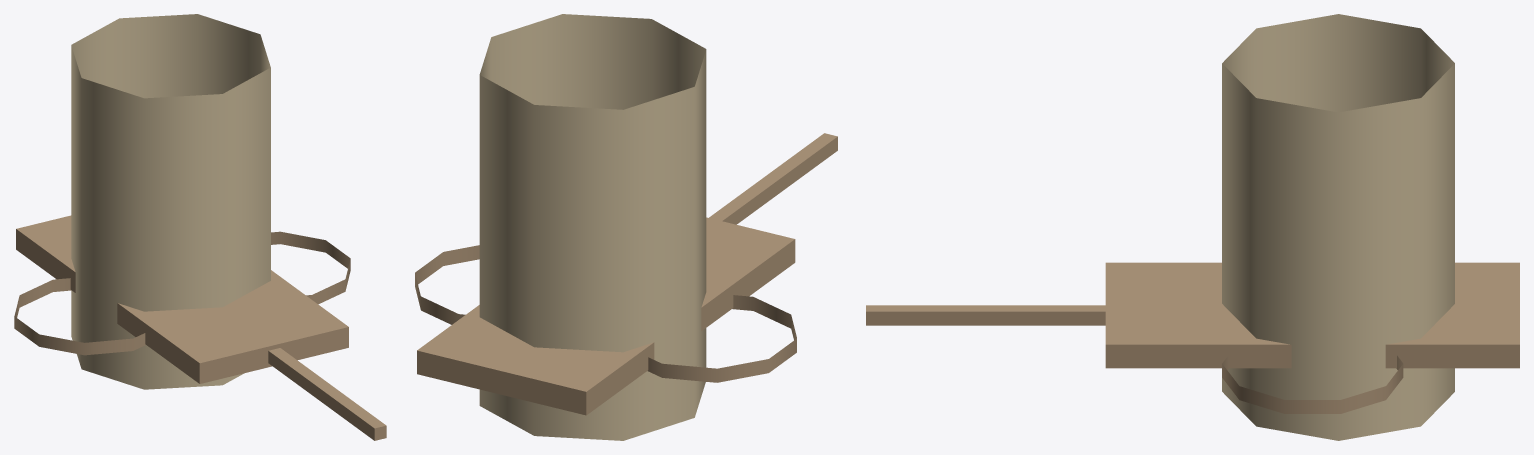
The model's file is bullock_cart.glb.
The picture shows the model from 3 angles, left to right: view 1: azimuth 30°, elevation 25°; view 2: azimuth 150°, elevation 25°; view 3: azimuth 270°, elevation 25°; orthographic projection. The views are drawn at different scales.
Visible parts, largest first — view 1: WickerCanopy_Node, CartBed_Node, YokeShaft_Node, Wheel_L_Node, Wheel_R_Node; view 2: WickerCanopy_Node, CartBed_Node, YokeShaft_Node, Wheel_L_Node, Wheel_R_Node; view 3: WickerCanopy_Node, CartBed_Node, YokeShaft_Node, Wheel_R_Node.
Part boxes in pixels (<box>): WickerCanopy_Node: <box>71,14,270,389</box>; CartBed_Node: <box>16,215,348,383</box>; YokeShaft_Node: <box>268,348,386,440</box>; Wheel_L_Node: <box>14,278,145,355</box>; Wheel_R_Node: <box>271,231,350,304</box>; WickerCanopy_Node: <box>479,14,706,440</box>; CartBed_Node: <box>417,217,795,415</box>; YokeShaft_Node: <box>709,133,837,224</box>; Wheel_L_Node: <box>648,295,796,382</box>; Wheel_R_Node: <box>415,245,479,324</box>; WickerCanopy_Node: <box>1222,14,1454,440</box>; CartBed_Node: <box>1105,262,1519,368</box>; YokeShaft_Node: <box>866,305,1105,325</box>; Wheel_R_Node: <box>1222,355,1403,413</box>.
Size of the model in its own units: 3.13 by 2.8 by 5.05.
